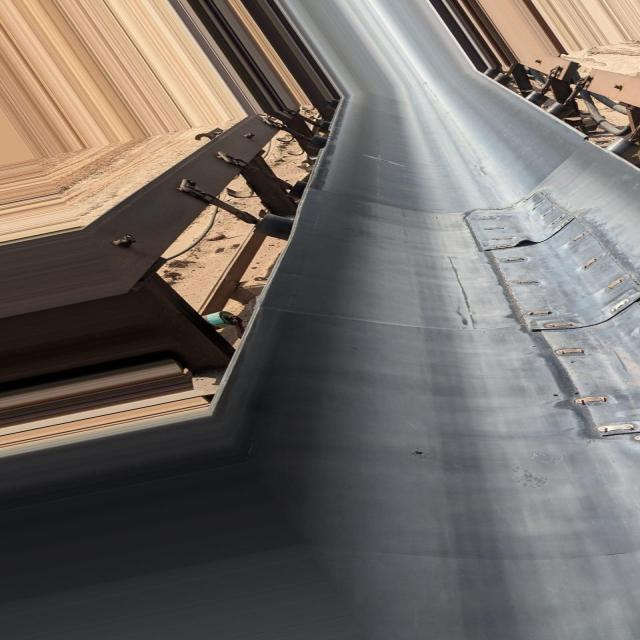patch work: (462, 191, 640, 438)
